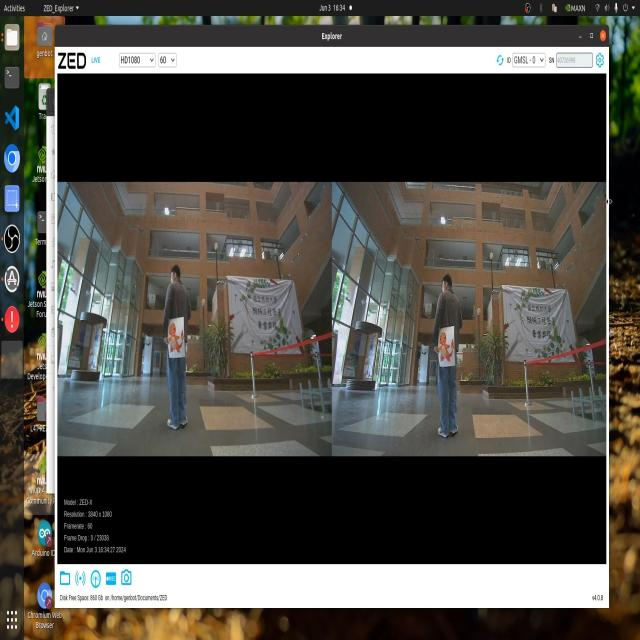red: (441, 324, 456, 374), (169, 313, 185, 353)
